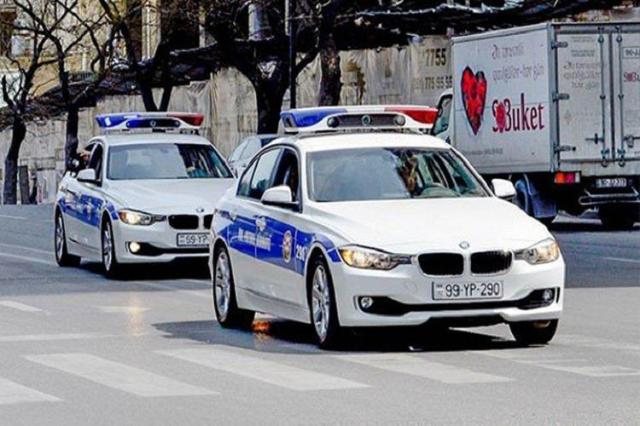police: (207, 103, 565, 352), (55, 110, 238, 274)
